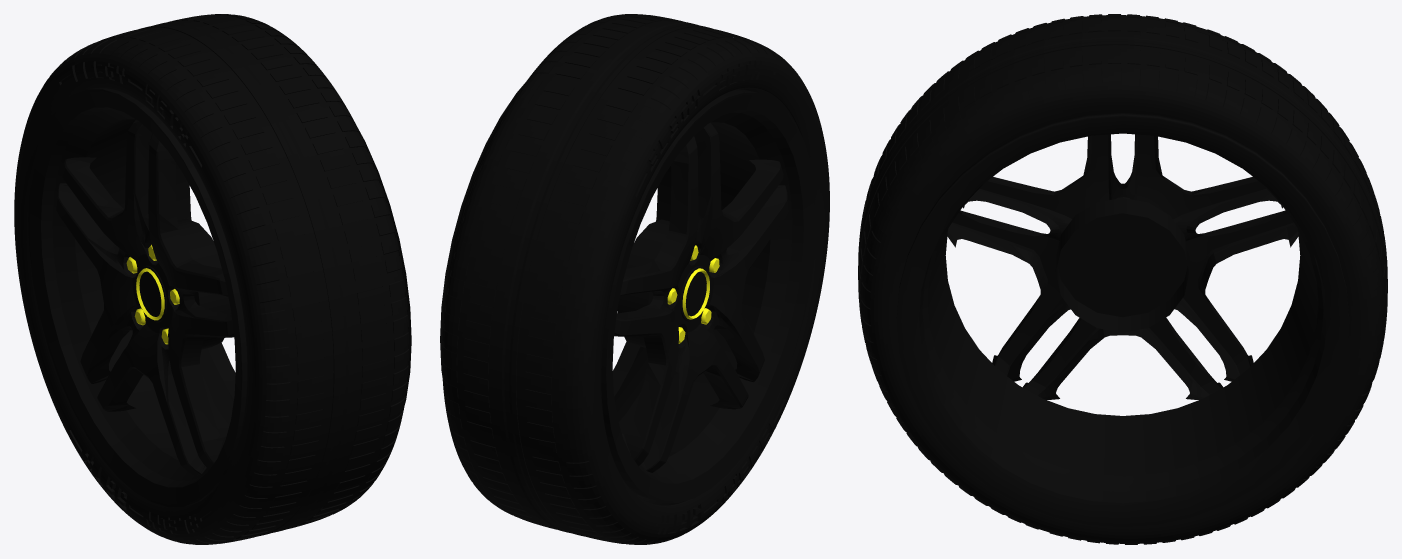
Rendered from saesae.fbx.
3 renders of one model, left to right at view 1: azimuth 30°, elevation 25°; view 2: azimuth 150°, elevation 25°; view 3: azimuth 270°, elevation 25°, orthographic. The views are drawn at different scales.
Visible parts, largest first — view 1: Cylinder.001, Cylinder.003, Cylinder.002, Cylinder.004; view 2: Cylinder.001, Cylinder.003, Cylinder.002, Cylinder.004; view 3: Cylinder.003, Cylinder.001.
Part boxes in pixels (x1,y1,x2,y2): Cylinder.001: [14, 14, 409, 544]; Cylinder.003: [28, 88, 411, 507]; Cylinder.002: [29, 91, 241, 504]; Cylinder.004: [126, 244, 179, 344]; Cylinder.001: [442, 14, 829, 544]; Cylinder.003: [440, 83, 816, 502]; Cylinder.002: [607, 95, 814, 500]; Cylinder.004: [667, 245, 719, 343]; Cylinder.003: [896, 112, 1349, 527]; Cylinder.001: [858, 14, 1387, 544].
Size of the model in its own units: 22.91 by 63.97 by 63.98.
